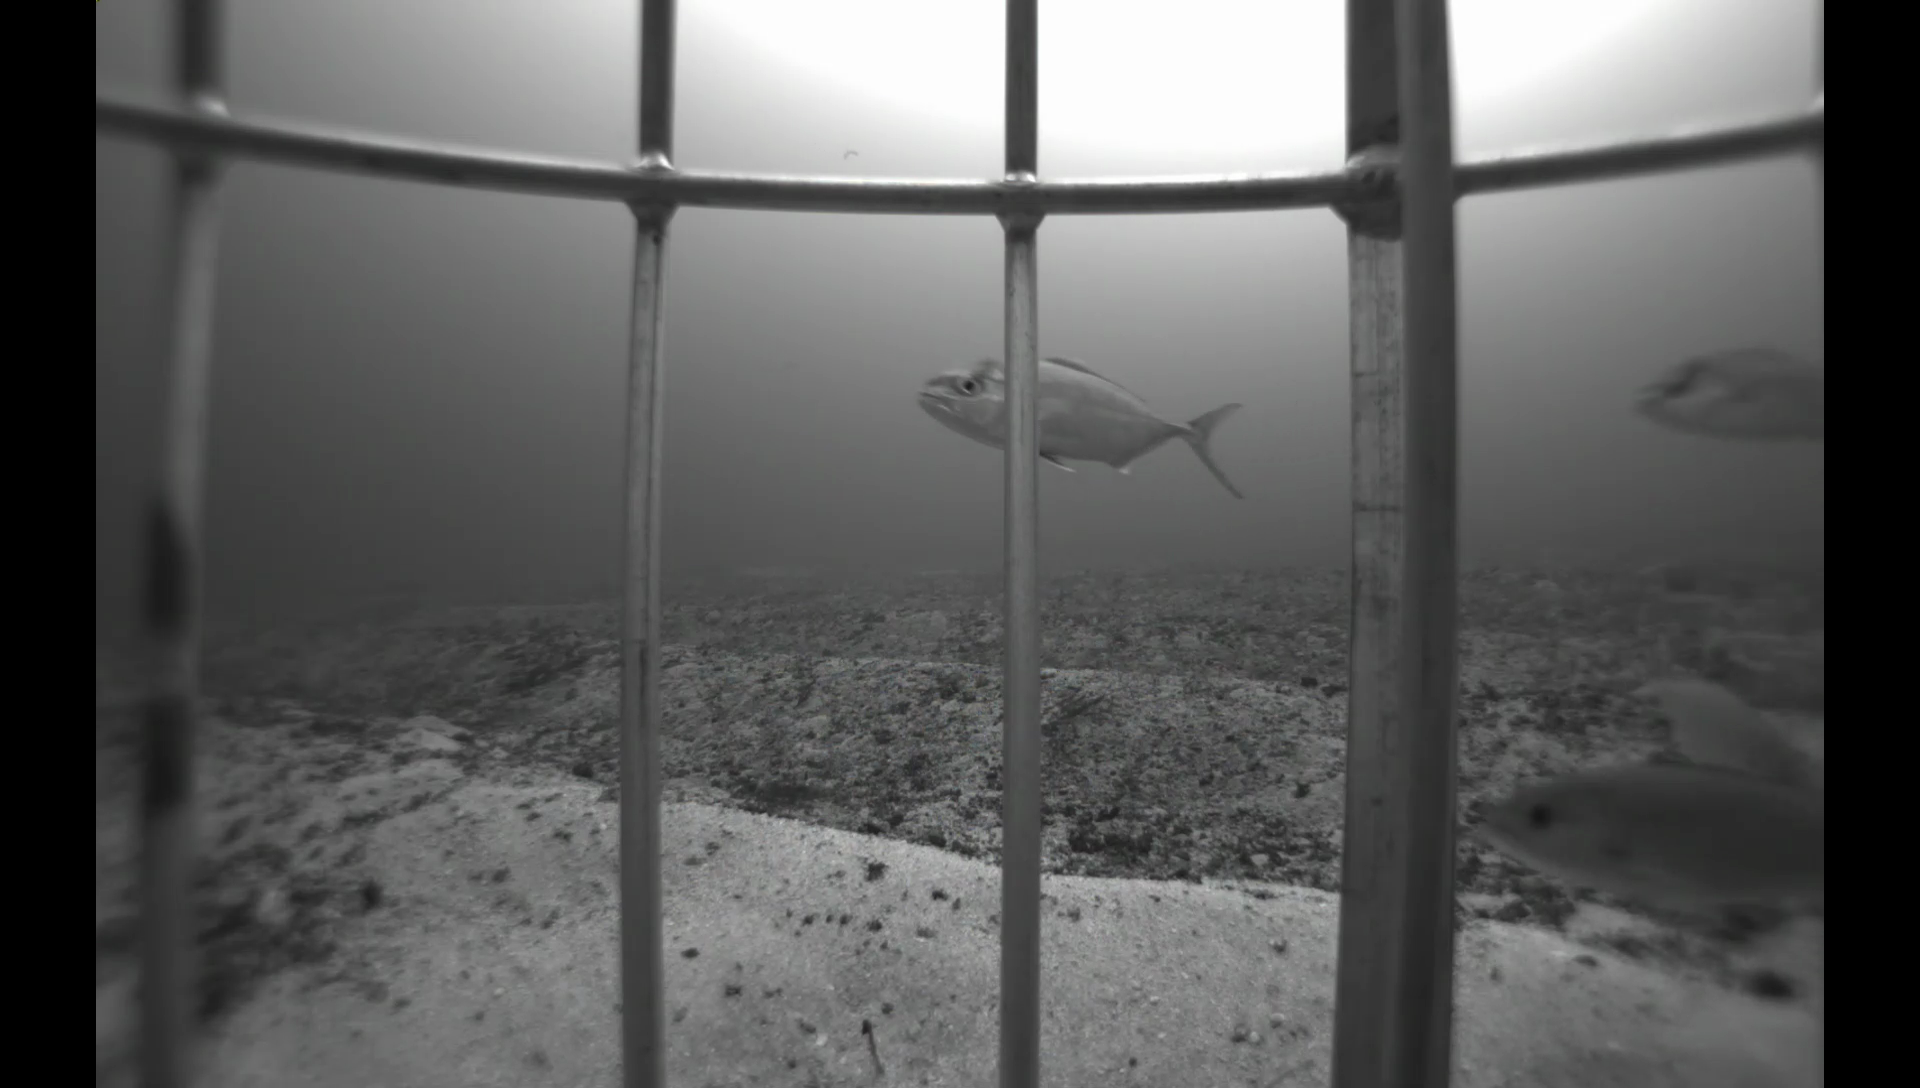RHOMBOPLITESAURORUBENS-170152001: (1462, 757, 1822, 935), (1644, 669, 1824, 789)
SERIOLAFASCIATA-170113103: (901, 336, 1271, 518), (1619, 338, 1822, 444)
